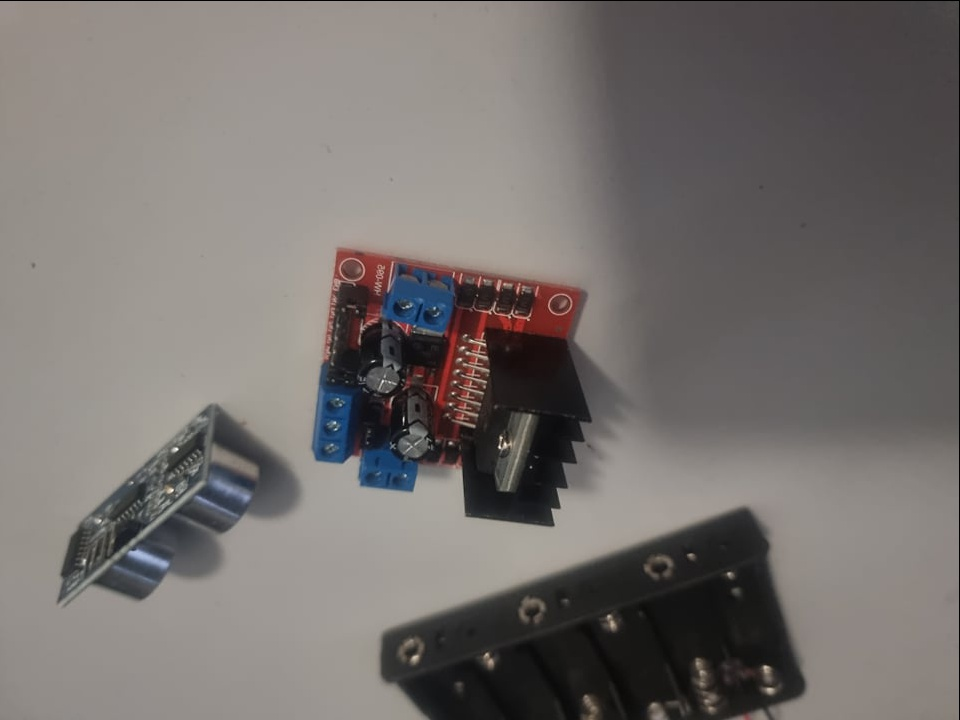BATTERY BOX: (374, 501, 810, 716)
MOTOR: (312, 246, 593, 528)
SENSOR: (60, 401, 259, 607)
